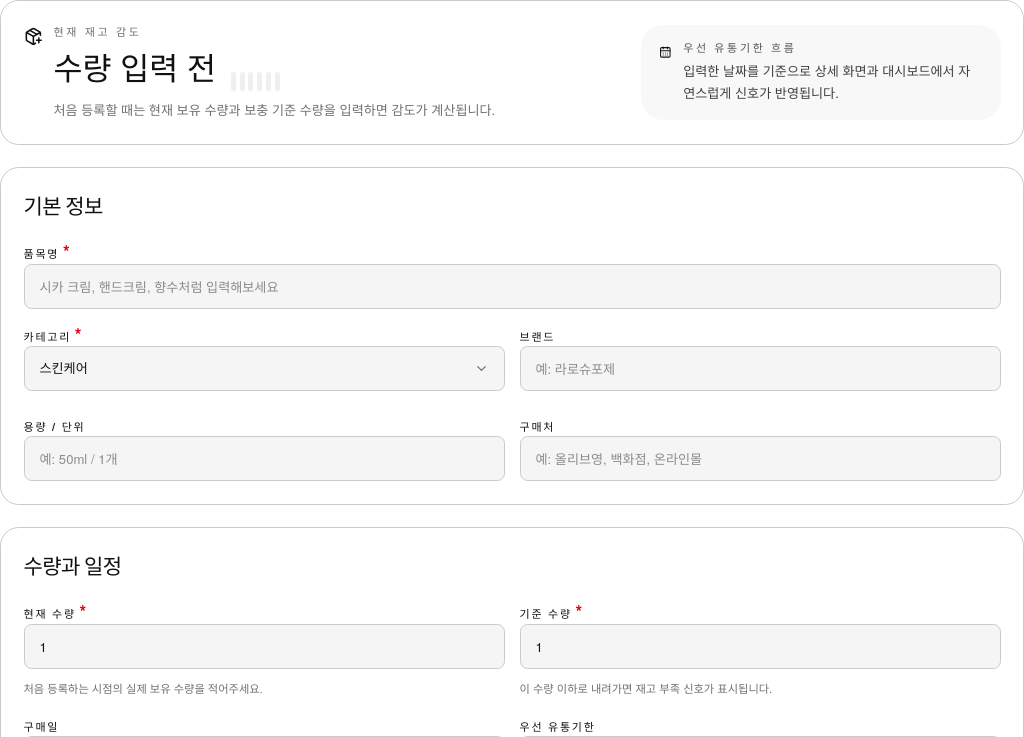
it: ItemFormPage › fills brand and category from a name autocomplete suggestion
The image size is (1024, 737).
Type "핸드" into the field with placeholder "시카 크림, 핸드크림, 향수처럼 입력해보세요". click: (512, 286)
box: [24,264,1000,308]
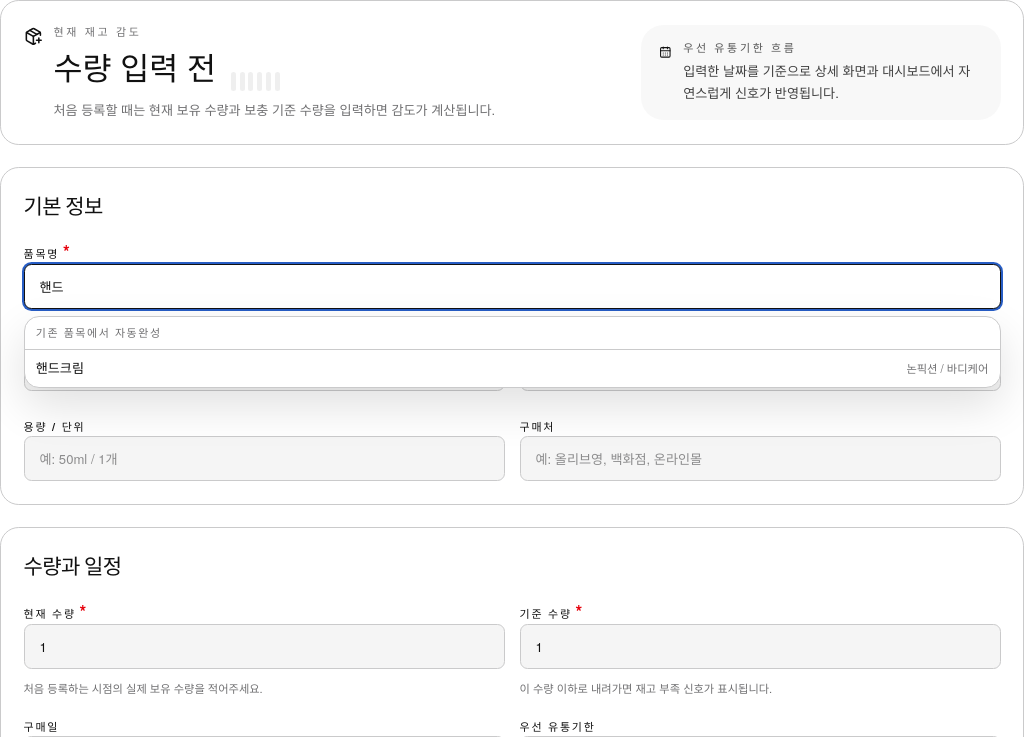
Click the button "핸드크림 논픽션 / 바디케어". click: (60, 367)
box: [24,350,1000,387]
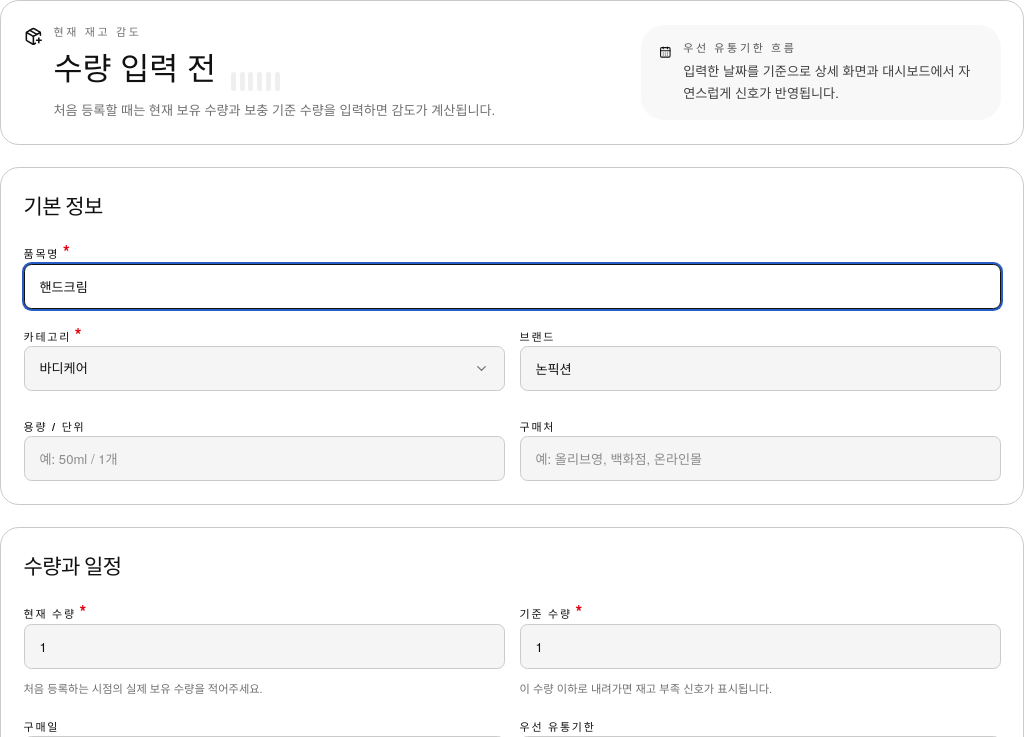
Expected: the field showing "핸드크림" is shown, [24,264,1000,308]
Expected: the field showing "논픽션" is shown, [520,346,1000,391]
Expected: the dropdown reads "바디케어", [24,346,504,391]
